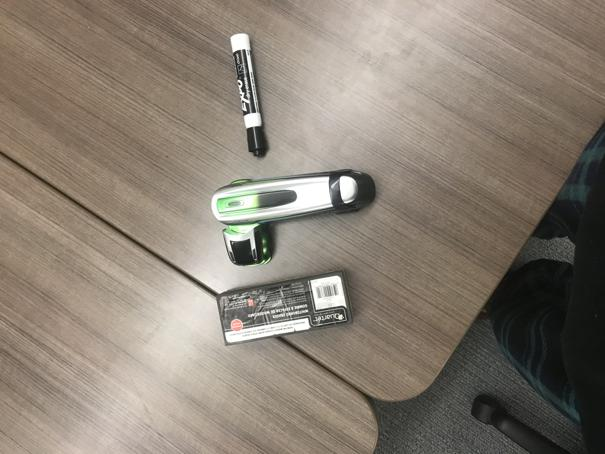Freewheel: (211, 167, 378, 266)
